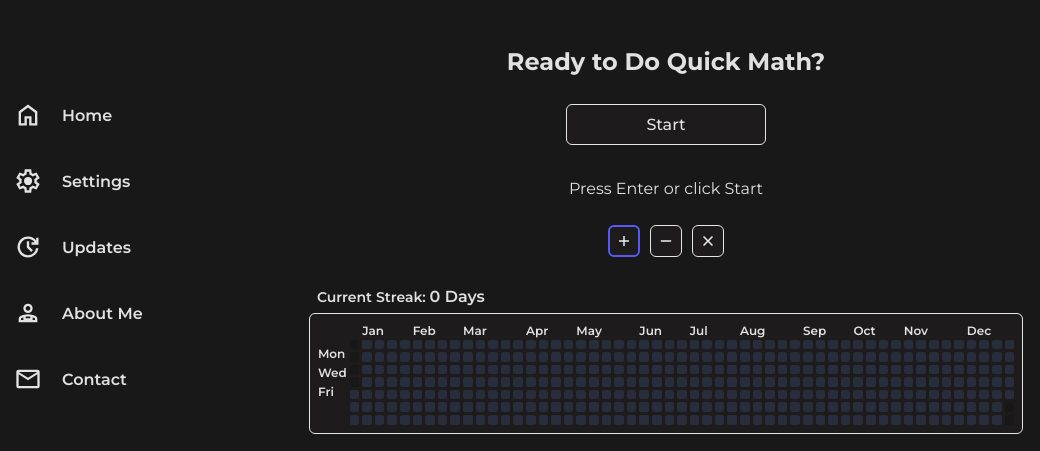
Calculation panel indicator updates after answers › Marks first question as correct when the right answer is submitted
Click the button "Start" at [666, 124], box [566, 104, 766, 144]
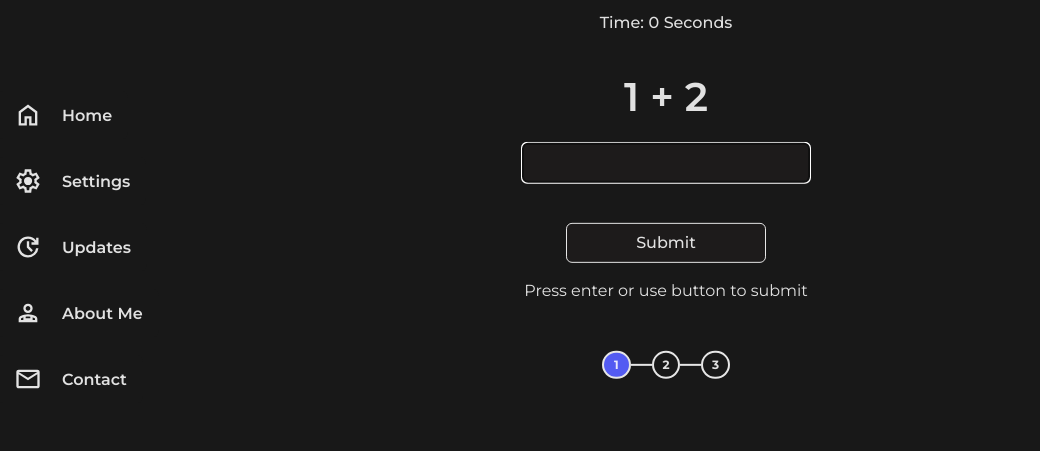
Type "3" into the field named "answer-input" at [666, 162], box [522, 142, 810, 182]
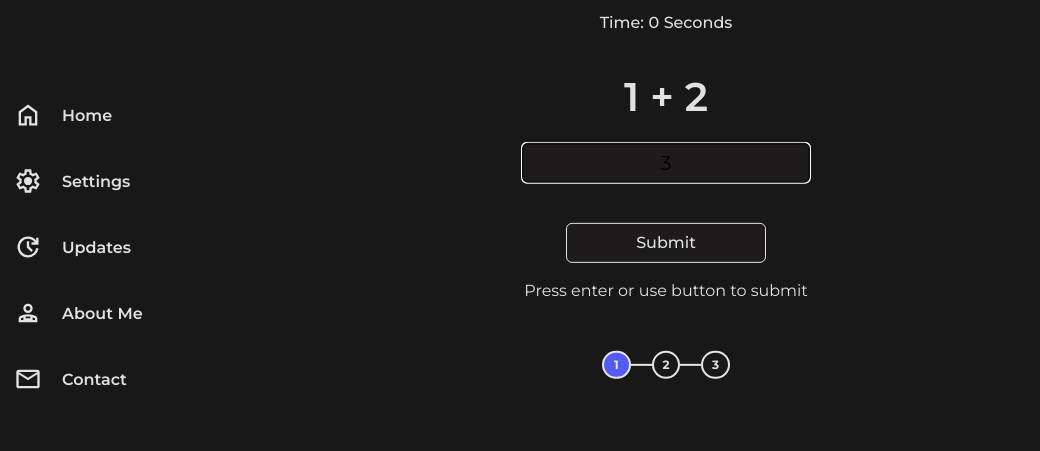
Click the button "Submit" at [666, 242], box [566, 222, 766, 263]
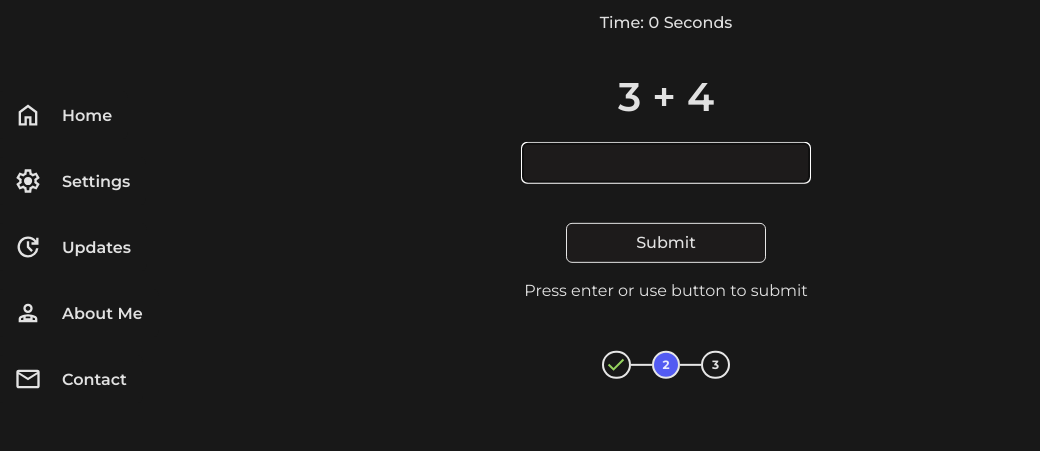
Result: the text "2" is shown at [662, 356, 670, 374]
Result: the text "3" is shown at [712, 356, 719, 374]
Result: the picture named "Correct Question" is shown at [604, 353, 628, 377]
